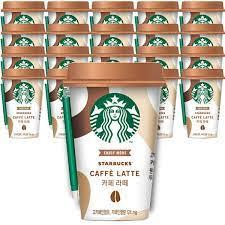starbucks_cafelatte: (64, 63, 165, 219), (179, 65, 220, 143), (2, 69, 45, 140)
